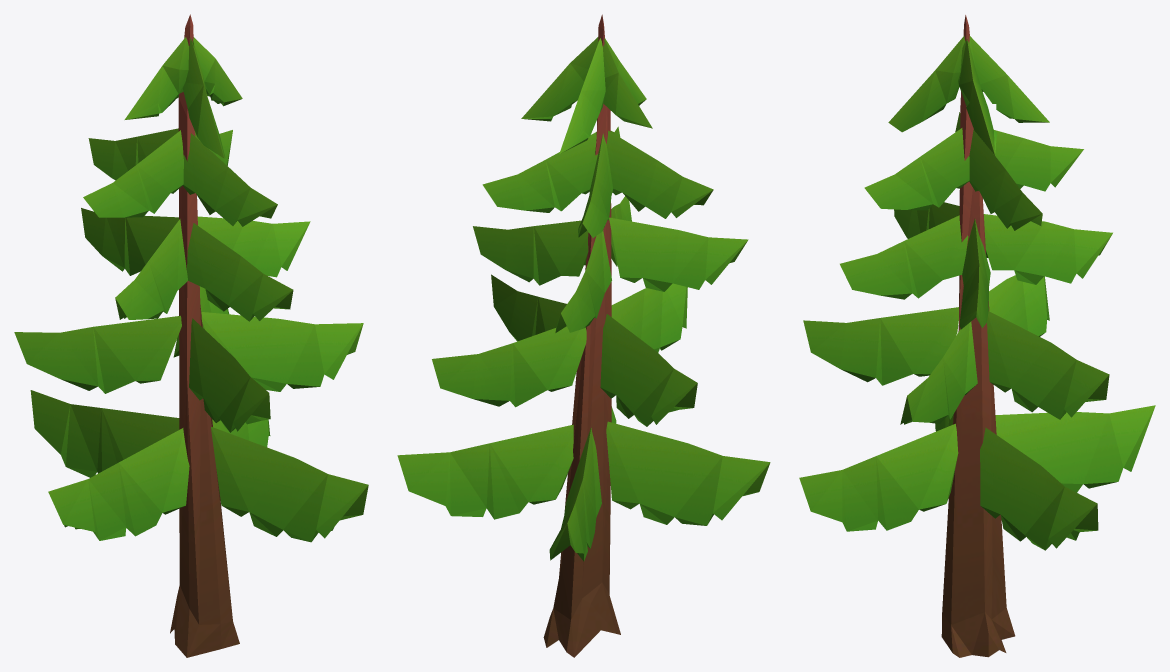
3 renders of one model, left to right at view 1: azimuth 30°, elevation 25°; view 2: azimuth 150°, elevation 25°; view 3: azimuth 270°, elevation 25°, orthographic. The views are drawn at different scales.
Parts seen in each view (by area): view 1: Conifer2_Distant; view 2: Conifer2_Distant; view 3: Conifer2_Distant.
Part boxes in pixels (box(x1,y1,x2,y2)): Conifer2_Distant: box(14, 14, 368, 657); Conifer2_Distant: box(397, 14, 770, 657); Conifer2_Distant: box(799, 15, 1155, 657).
Size of the model in its own units: 5.12 by 10.43 by 5.41.
1 material, 1 textured.
